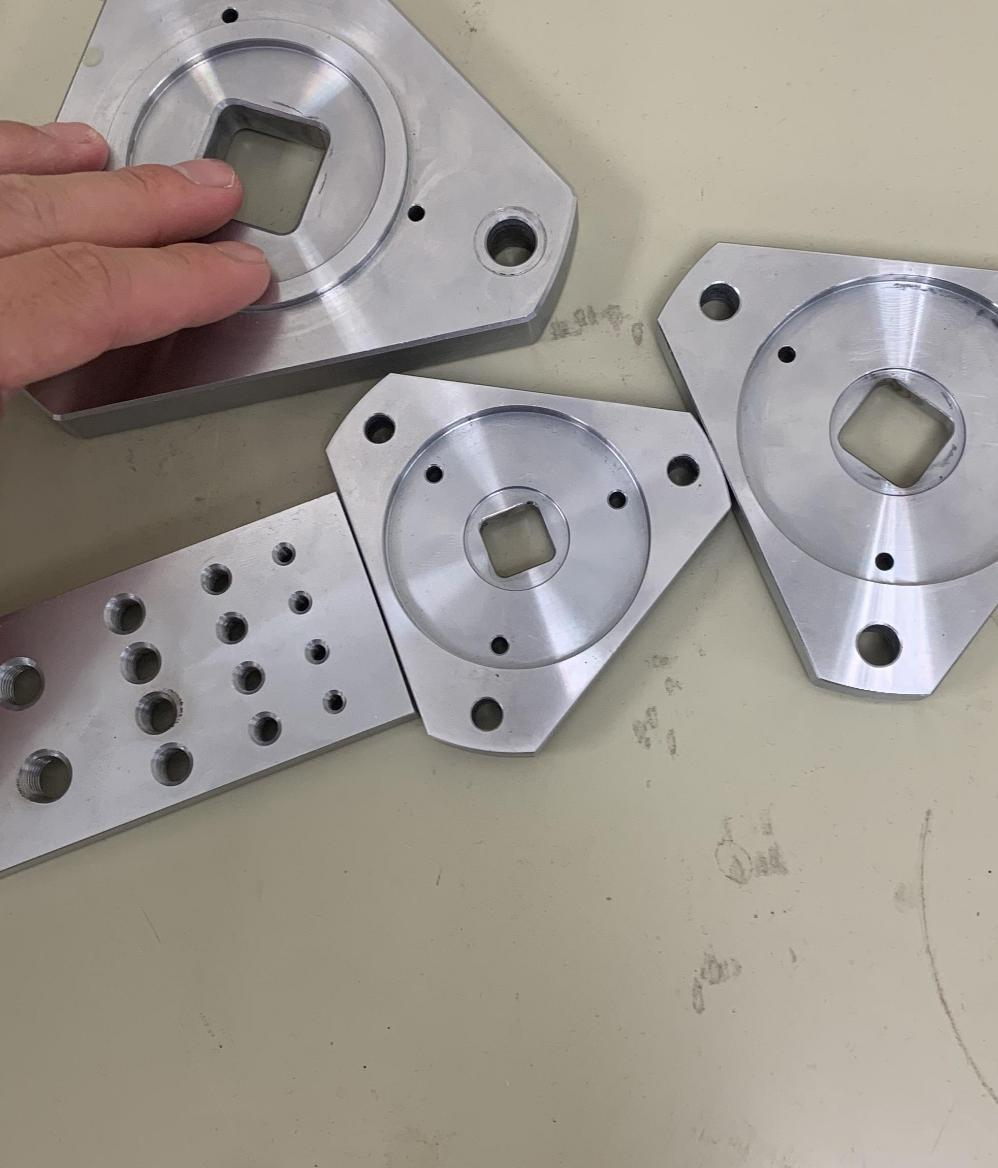hole: (472, 199, 550, 287), (2, 740, 80, 814), (0, 647, 62, 716), (852, 611, 910, 679), (142, 740, 204, 796), (125, 687, 192, 738), (92, 587, 152, 637), (696, 274, 746, 330), (108, 638, 166, 686), (665, 439, 707, 502), (466, 686, 512, 740), (242, 708, 292, 754), (193, 558, 239, 602), (360, 407, 400, 457), (213, 608, 256, 650), (228, 658, 268, 698), (314, 684, 350, 720), (483, 630, 516, 663), (868, 546, 900, 576), (300, 638, 334, 666), (272, 533, 298, 569), (420, 459, 448, 491), (289, 592, 317, 624), (606, 485, 632, 515), (776, 344, 800, 369)
